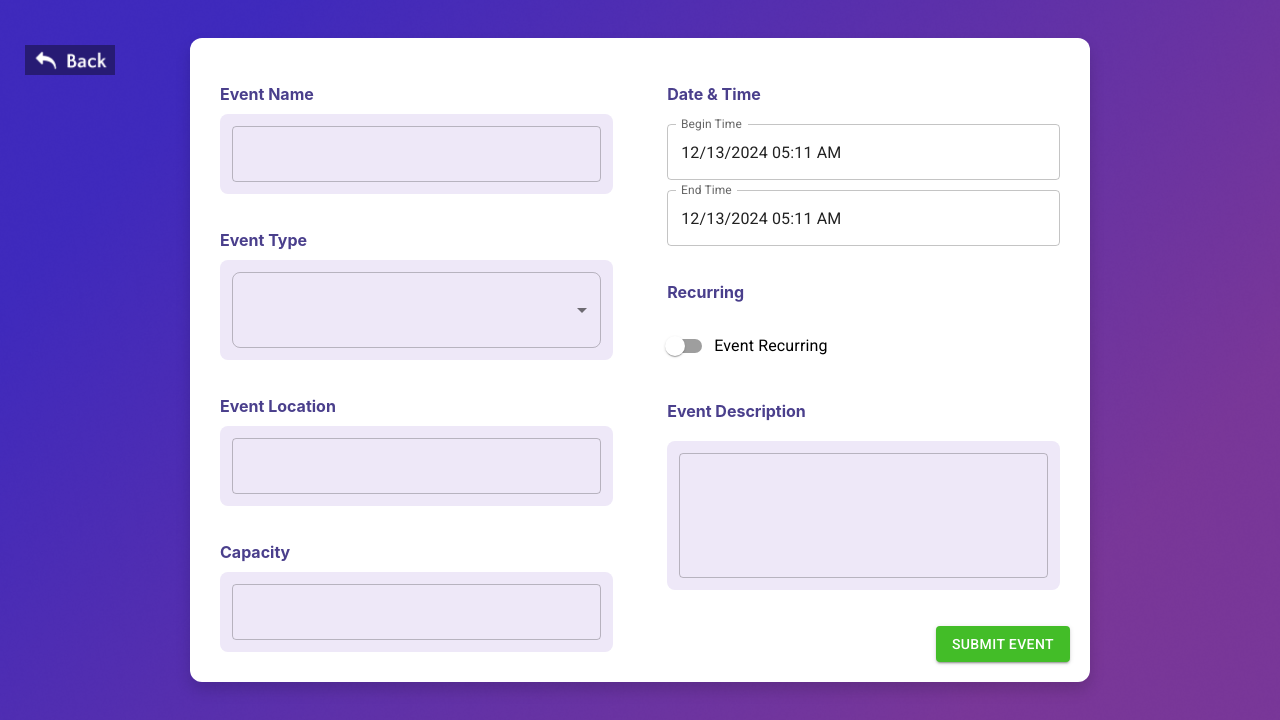
Scenario: Add Event Form › rendering event recurring options
The width and height of the screenshot is (1280, 720).
Click the checkbox labelled "Event Recurring": (746, 346) [665, 336, 828, 356]
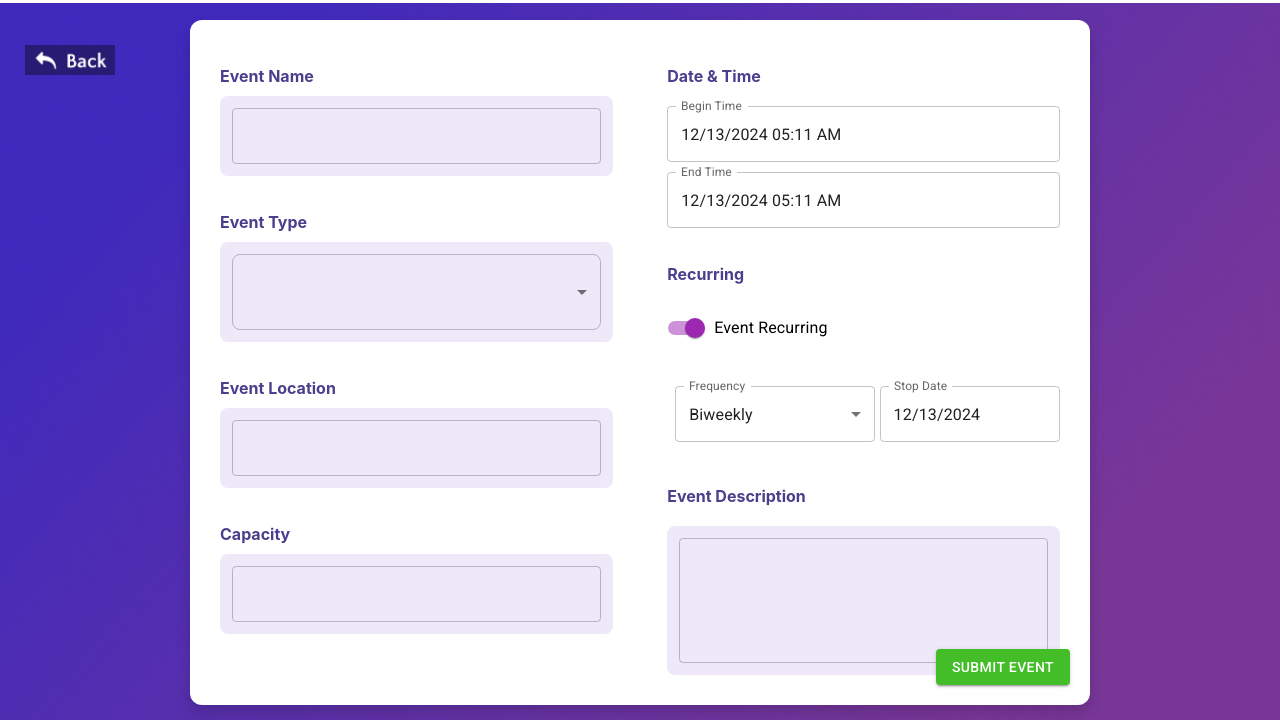
Expected: the field labelled "Stop Date" is shown, [880, 386, 1046, 442]
Expected: the dropdown named "Frequency" is shown, [689, 404, 753, 424]
